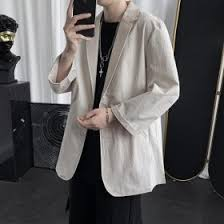blazer: (50, 2, 177, 192)
slacks: (64, 178, 142, 224)
